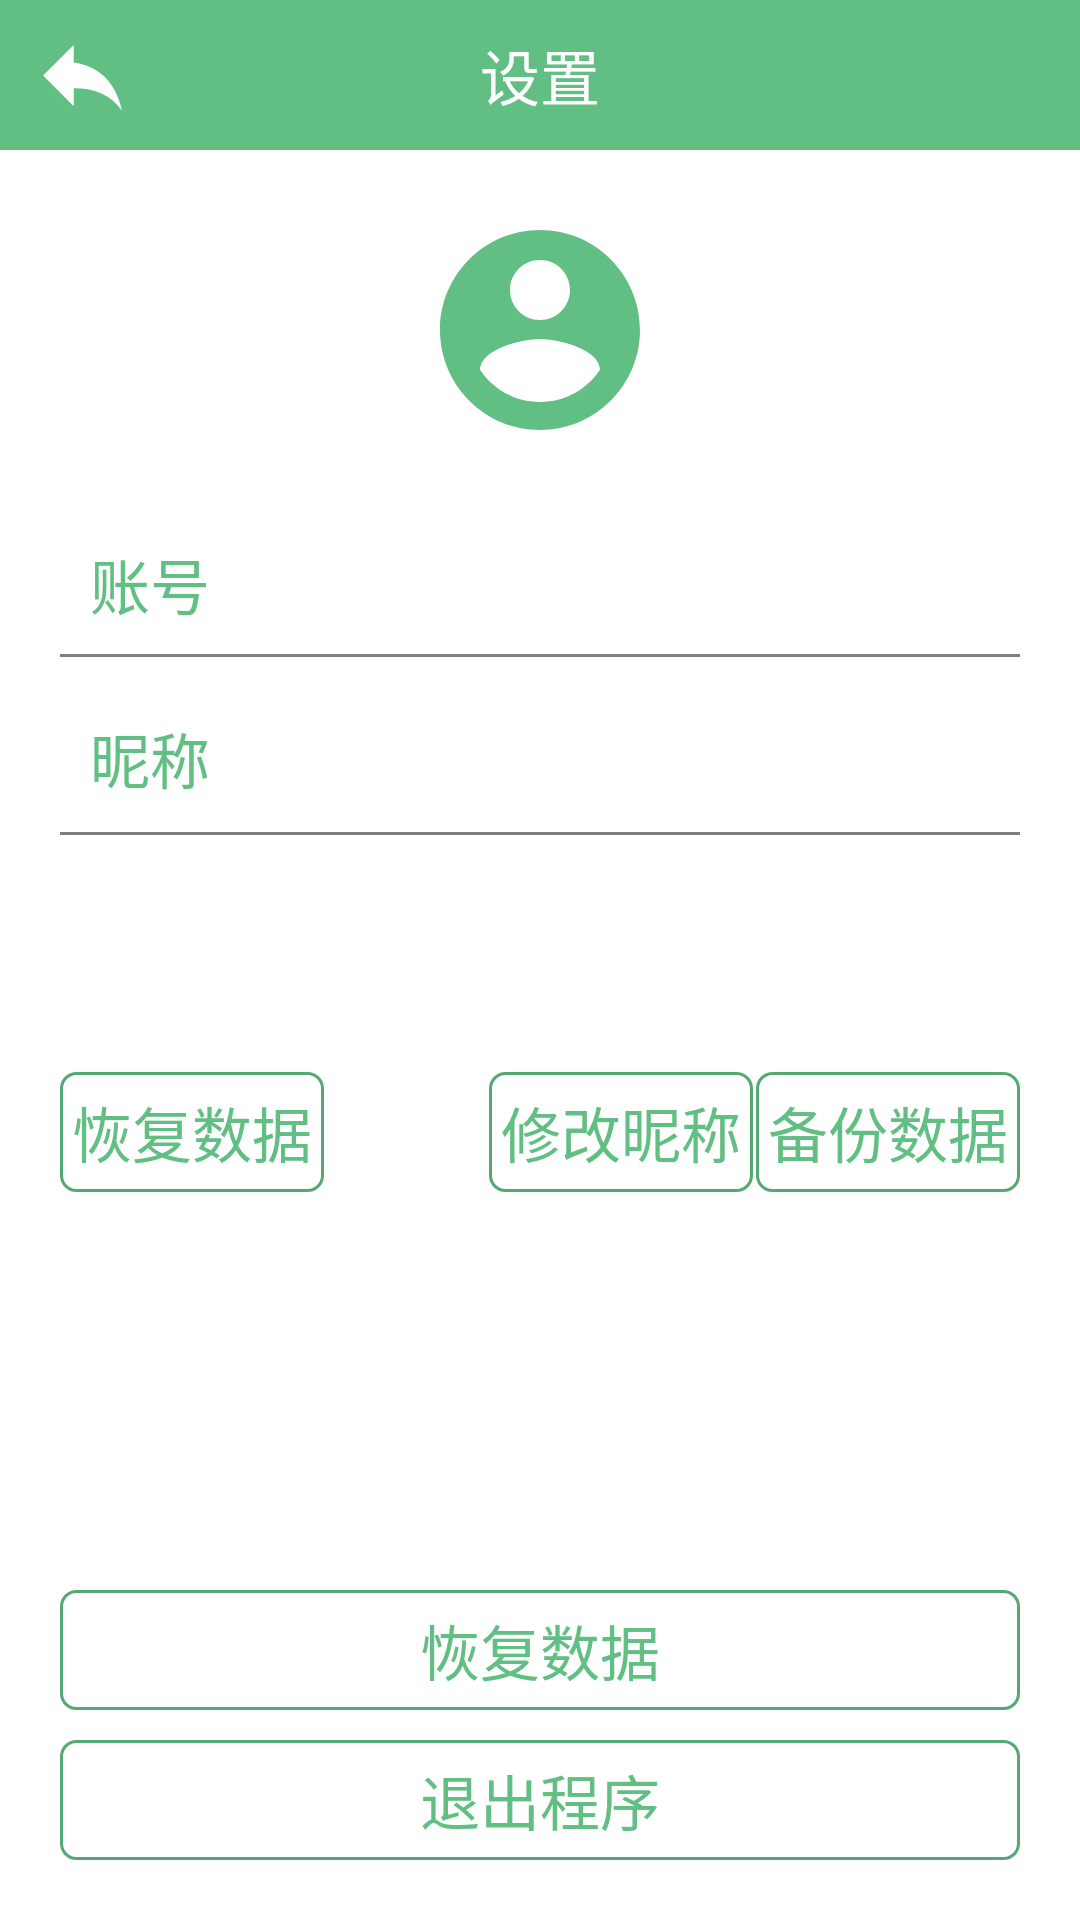

Icons on this 1080w x 1920h Android screen, each with the point to tap as point (x, y):
account: point (540, 330)
goback: point (82, 77)
